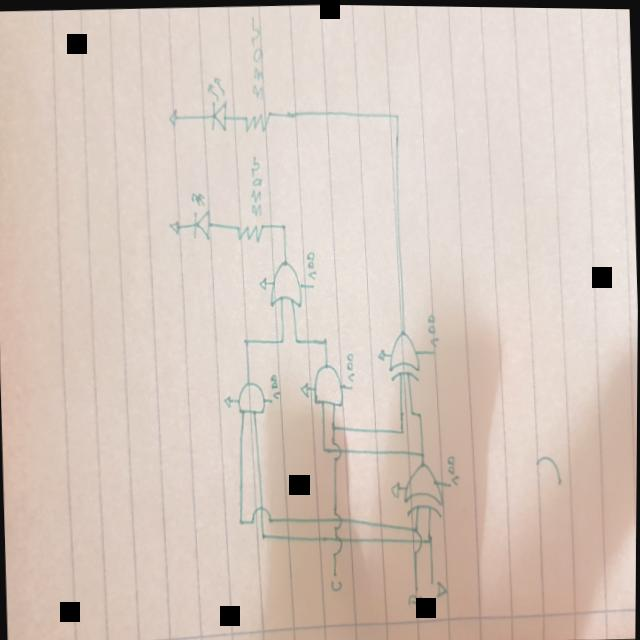crossover: (248, 502, 272, 524), (411, 525, 422, 553), (330, 533, 343, 554), (331, 510, 343, 530), (331, 439, 342, 460)
diode: (205, 72, 229, 134), (188, 188, 211, 241)
ground: (298, 379, 310, 399), (256, 273, 268, 293), (168, 217, 180, 237), (166, 108, 178, 128), (389, 479, 401, 498), (221, 391, 233, 410), (375, 345, 386, 363)
junction: (241, 334, 250, 348), (409, 407, 421, 417), (320, 333, 328, 346), (426, 531, 432, 544), (293, 335, 300, 346), (278, 336, 285, 346), (237, 516, 244, 526), (397, 424, 404, 434), (320, 445, 327, 455), (260, 531, 267, 541), (330, 421, 336, 431), (280, 220, 286, 229), (393, 112, 399, 119), (420, 449, 424, 456)
resistor: (233, 220, 266, 246), (240, 107, 271, 134)
source: (447, 480, 451, 487), (432, 348, 436, 354), (349, 384, 353, 390), (310, 282, 314, 288), (269, 397, 272, 403)
terminal: (331, 566, 339, 578), (429, 574, 435, 584), (413, 584, 419, 592)
text: (247, 14, 265, 102), (249, 154, 263, 217), (426, 311, 438, 346), (446, 452, 459, 484), (305, 250, 317, 280), (345, 351, 355, 383), (269, 372, 280, 398), (434, 578, 447, 598), (407, 592, 423, 605), (330, 576, 343, 592)
